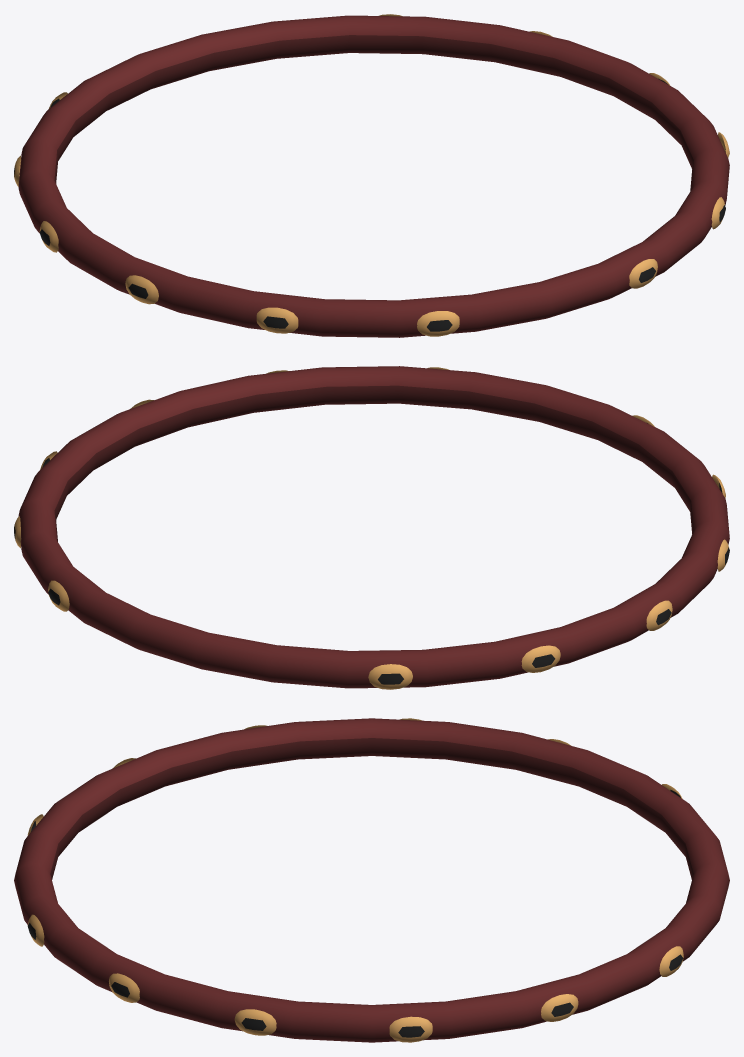
File: MS_RedTorus01_Boss03.fbx
3 views of the same model, one above another, from view 1: azimuth 30°, elevation 25°; view 2: azimuth 150°, elevation 25°; view 3: azimuth 270°, elevation 25° (orthographic).
Parts seen in each view (by area): view 1: MS_MS_RedTorus01_Boss03; view 2: MS_MS_RedTorus01_Boss03; view 3: MS_MS_RedTorus01_Boss03.
Boxes of the visible parts, x1,y1,x2,y2 form: MS_MS_RedTorus01_Boss03: (14, 14, 729, 337); MS_MS_RedTorus01_Boss03: (14, 366, 729, 689); MS_MS_RedTorus01_Boss03: (14, 718, 729, 1042).
Bounding box in the file's own units: 768 × 40.18 × 763.
